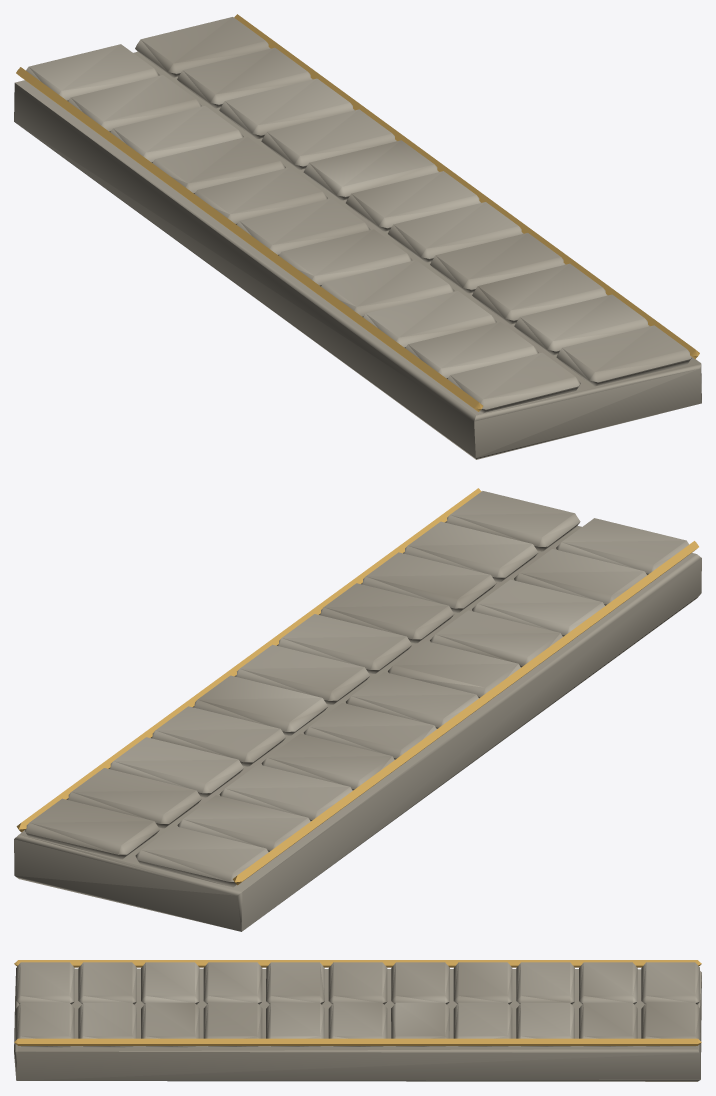
The model's file is default_road_v.glb.
3 views of the same model, one above another, from view 1: azimuth 30°, elevation 25°; view 2: azimuth 150°, elevation 25°; view 3: azimuth 270°, elevation 25° (orthographic). The views are drawn at different scales.
Parts seen in each view (by area): view 1: WoodBody, BrassTrim; view 2: WoodBody, BrassTrim; view 3: WoodBody, BrassTrim.
Part boxes in pixels (<box>): WoodBody: <box>14,17,701,459</box>; BrassTrim: <box>16,14,699,411</box>; WoodBody: <box>14,491,701,931</box>; BrassTrim: <box>16,488,698,885</box>; WoodBody: <box>14,962,701,1081</box>; BrassTrim: <box>14,960,701,1045</box>.
Size of the model in its own units: 0.1879 by 0.045 by 0.66.
